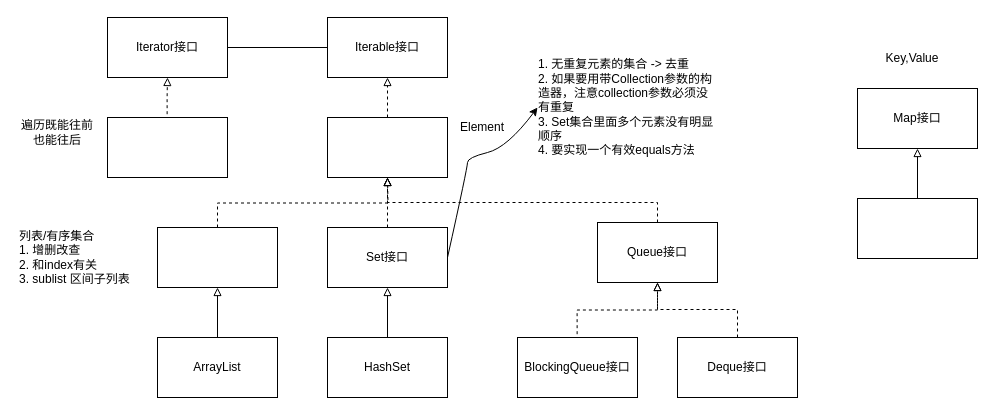
Some shapes in this 995 by 415 pixel diagram are drawn without their labels. The shapes that lost their labels are listed below. From the top down, each one's centre as x and y in pixels, then its label:
At point (167, 147): "ListIterator接口".
At point (387, 147): "Collection接口".
At point (917, 228): "HashMap".
At point (217, 257): "List接口".
